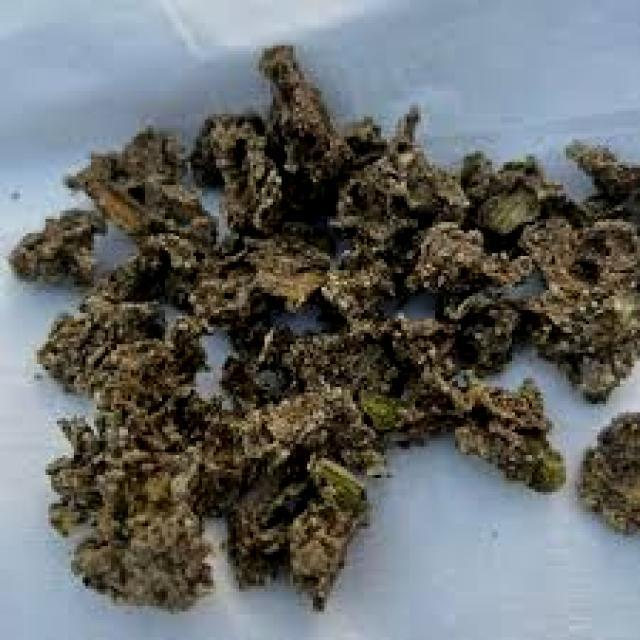NA: (71, 175, 286, 559), (308, 108, 526, 428), (392, 200, 548, 458)
